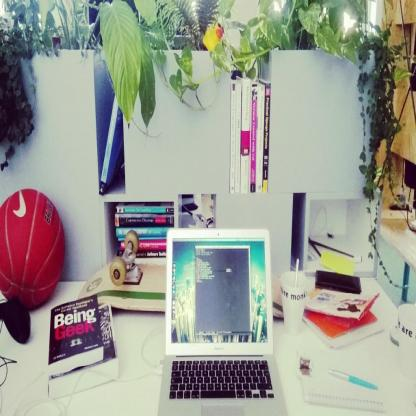board: (154, 213, 286, 416), (79, 229, 284, 320)
